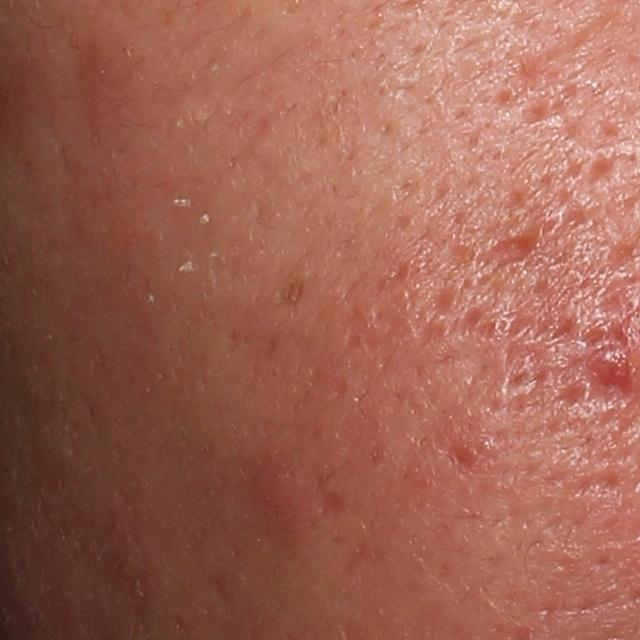atrophic_scar: (435, 421, 494, 477), (478, 226, 545, 268), (555, 471, 627, 497), (581, 152, 616, 197)
comedo: (489, 315, 509, 338)
papule: (252, 446, 319, 558)
